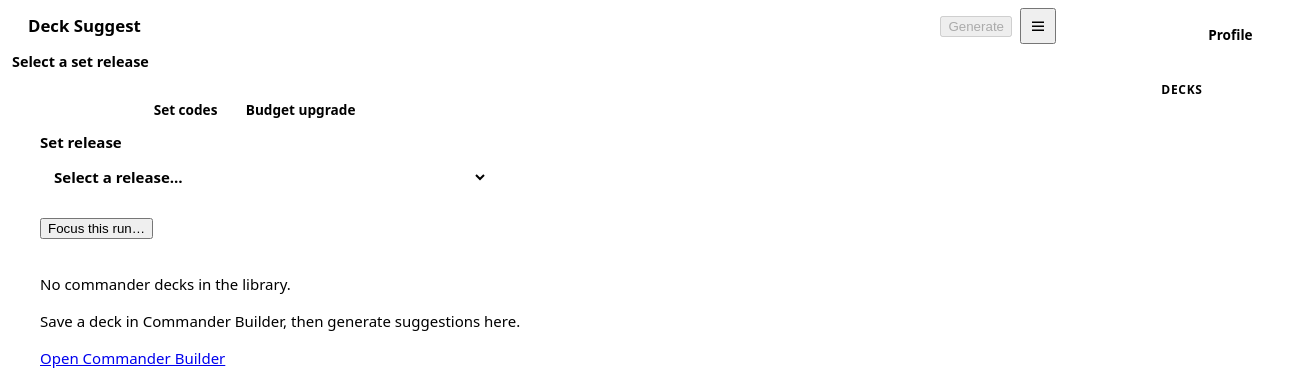
it: DeckSuggestApp empty state › shows empty guidance and setup actions
Check: the heading "Deck Suggest" is shown, box x1=28 y1=14 x2=141 y2=38
Check: the button "Generate" is shown, box x1=940 y1=16 x2=1012 y2=36
Click the button named "More". click: (1038, 26)
box: x1=1020 y1=8 x2=1056 y2=44
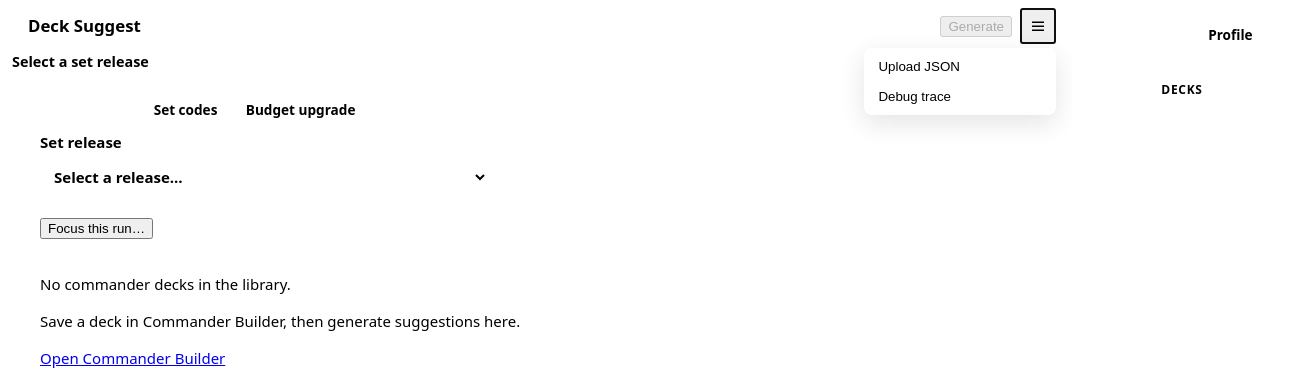
Check: the element named "Deck navigation" is shown, box x1=1084 y1=16 x2=1280 y2=98
Check: the menu item "Upload JSON" is shown, box x1=868 y1=52 x2=1052 y2=81
